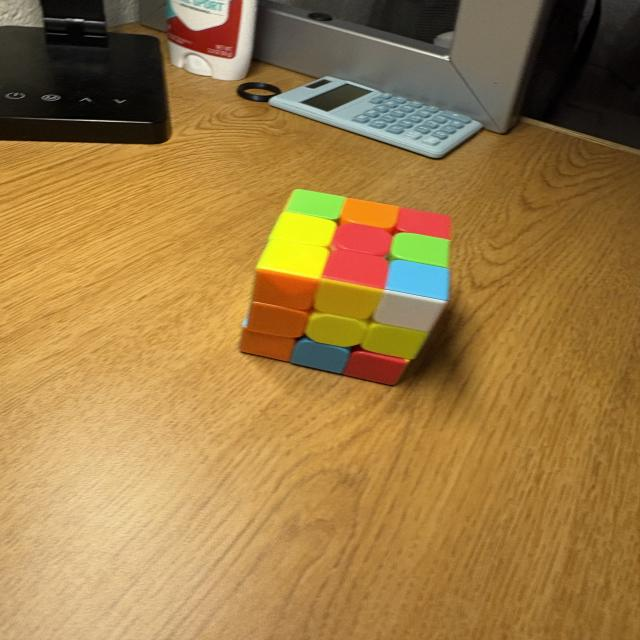Rubiks Cube: (240, 189, 451, 387)
